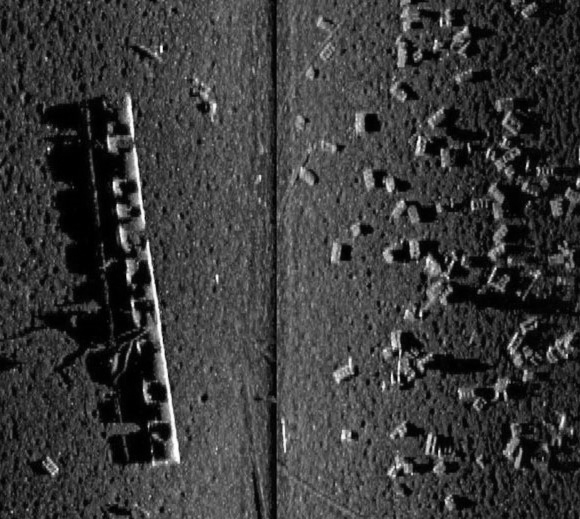ship: (80, 88, 182, 468)
